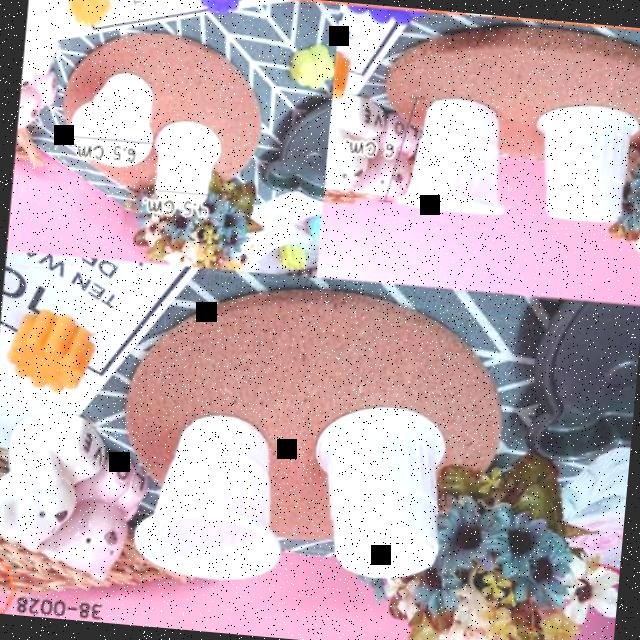plastic_box: (128, 404, 291, 584), (295, 396, 452, 580), (394, 90, 516, 216), (520, 101, 640, 225), (64, 62, 156, 168), (146, 118, 222, 216)
